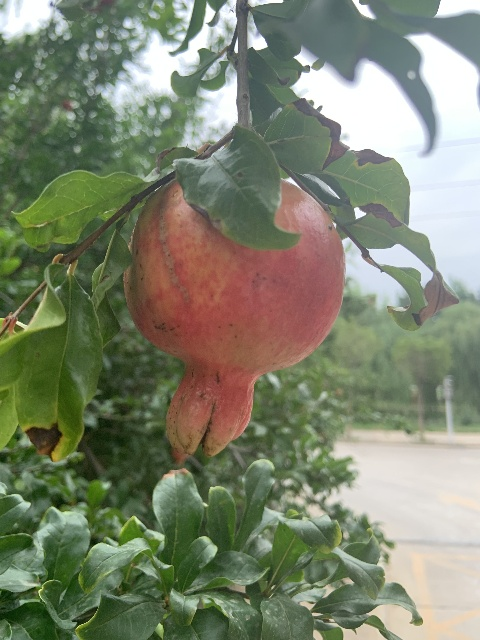ripe: (123, 178, 345, 457)
